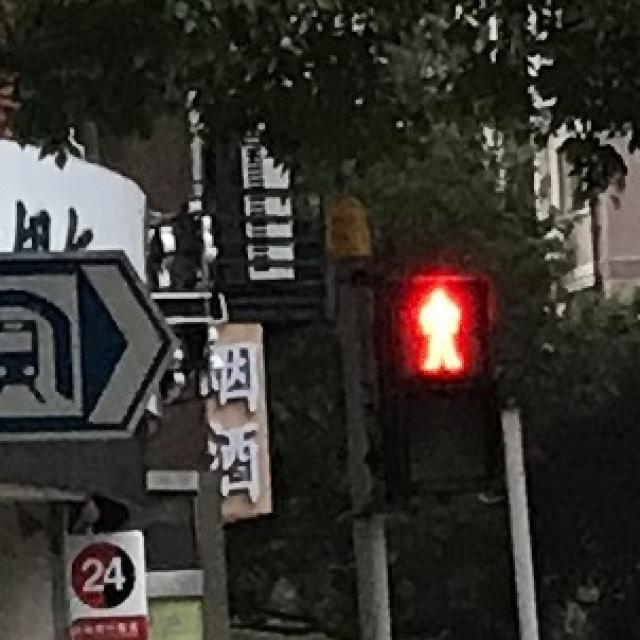red-crossing: (392, 276, 485, 380)
